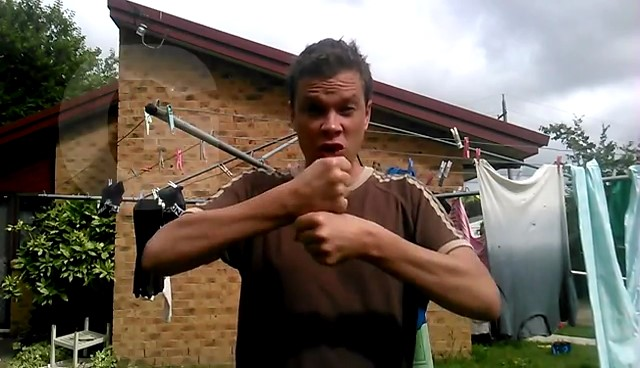G: (285, 147, 365, 270)
